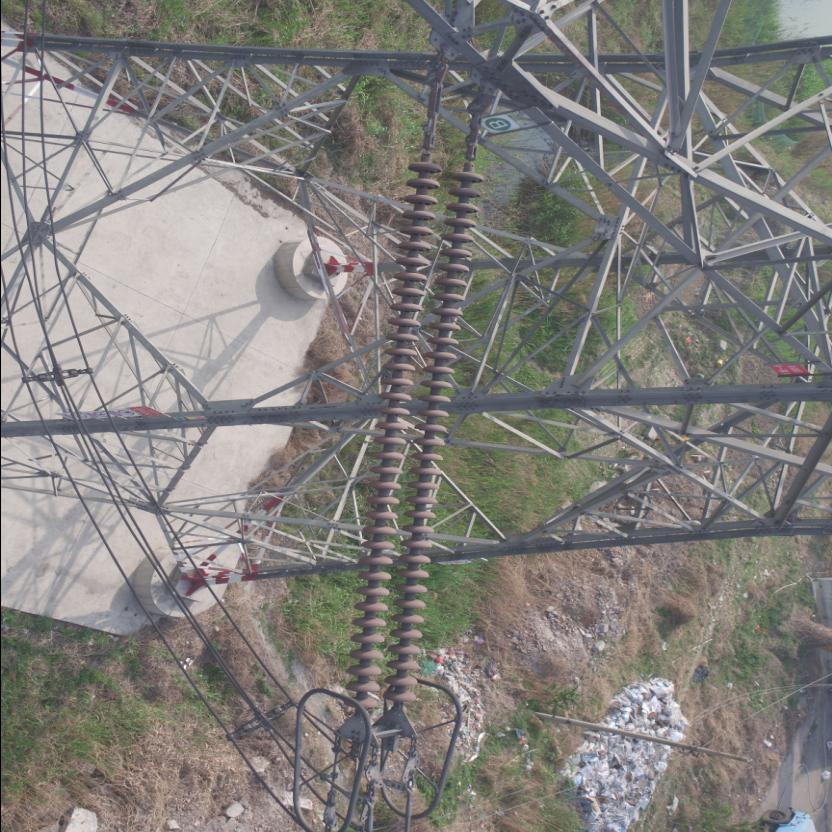insulator: (344, 131, 490, 726)
